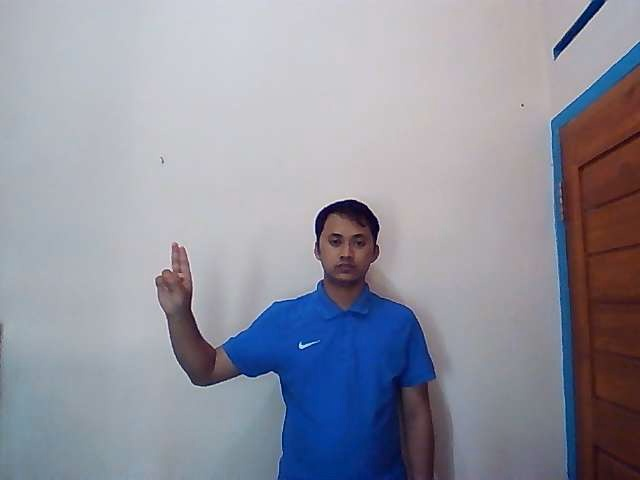U: (155, 242, 192, 313)
